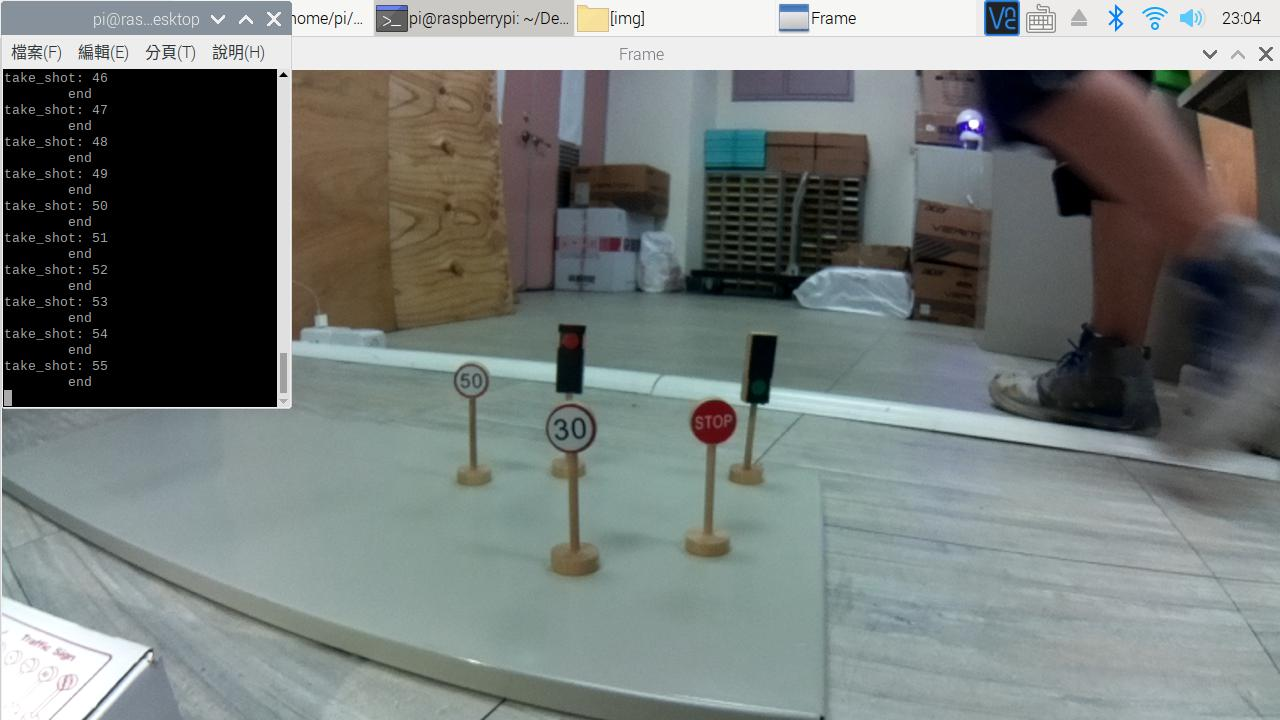Green: (745, 327, 775, 408)
Red: (555, 327, 587, 403)
Speed30: (542, 404, 598, 451)
Speed50: (454, 360, 485, 399)
Stop: (687, 401, 738, 449)
